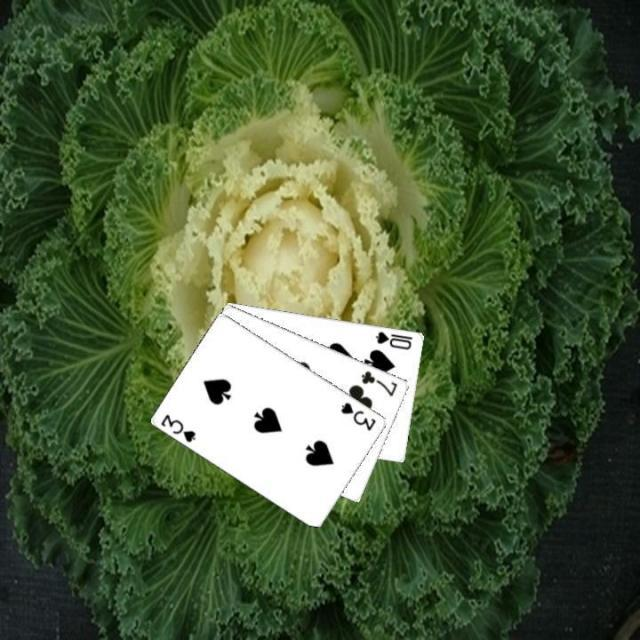10S: (372, 327, 414, 351)
3S: (337, 398, 378, 432), (158, 410, 199, 444)
7C: (357, 367, 399, 398)
